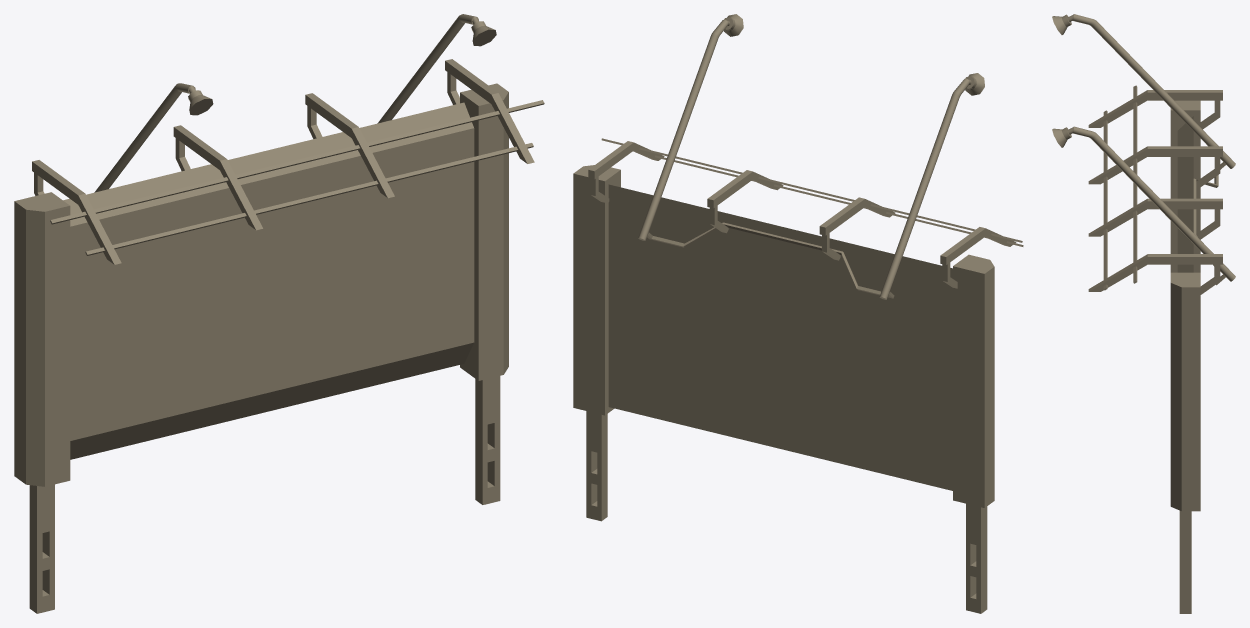
Rendered from savHubBoard.fbx.
3 views of the same model, side by side, from view 1: azimuth 30°, elevation 25°; view 2: azimuth 150°, elevation 25°; view 3: azimuth 270°, elevation 25° (orthographic). The views are drawn at different scales.
Parts seen in each view (by area): view 1: savHubBoard_LOD0; view 2: savHubBoard_LOD0; view 3: savHubBoard_LOD0.
Boxes of the visible parts, bbox=[...] form: savHubBoard_LOD0: bbox=[14, 14, 544, 613]; savHubBoard_LOD0: bbox=[573, 14, 1023, 613]; savHubBoard_LOD0: bbox=[1052, 14, 1235, 613].
Size of what is drawn, in the model's own units: 255 by 275 by 101.
